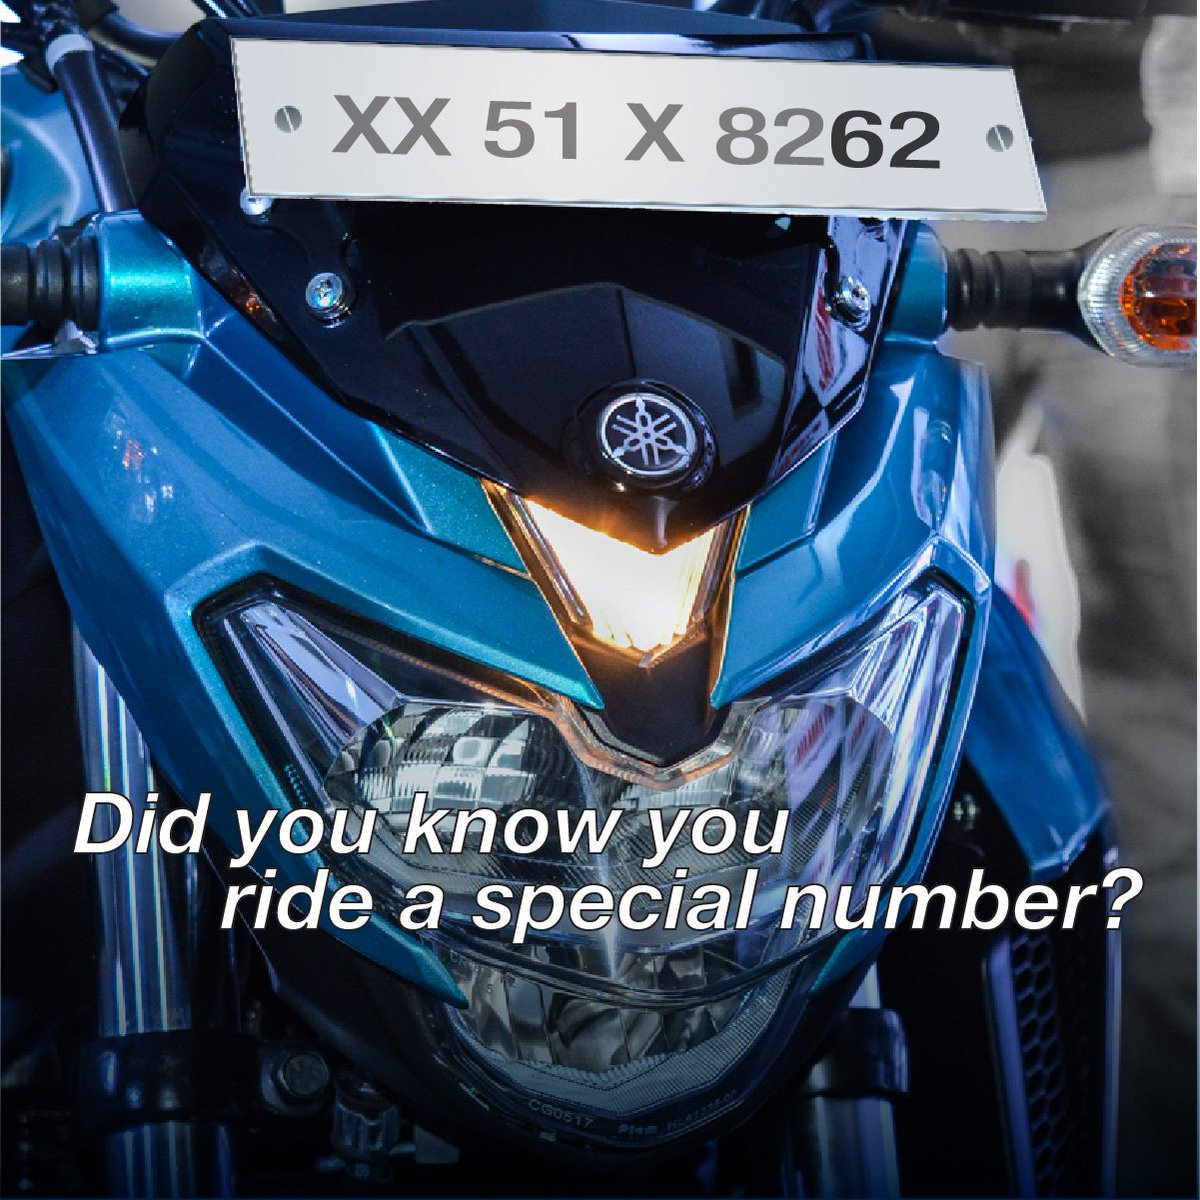number_plate: (219, 24, 1052, 226)
